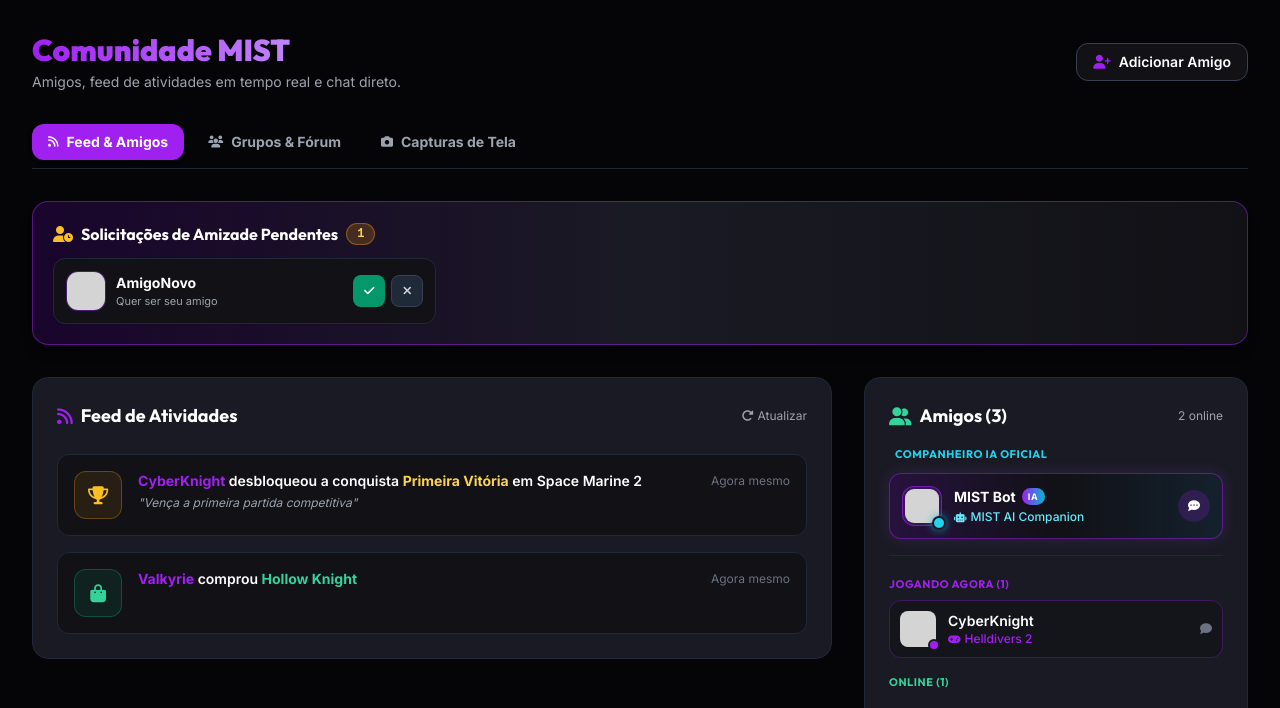
Test: Social Page Component (F-06 & F-08) › exibe a seção de solicitações de amizade pendentes e permite aceitar uma solicitação
Check: the element with test id "section-pending-requests" is shown, box left=32, top=201, right=1248, bottom=345
Check: the text "AmigoNovo" is shown, box left=116, top=274, right=196, bottom=291
Click the button with test id "btn-accept-request-99".
click(369, 291)  # box left=353, top=275, right=385, bottom=307
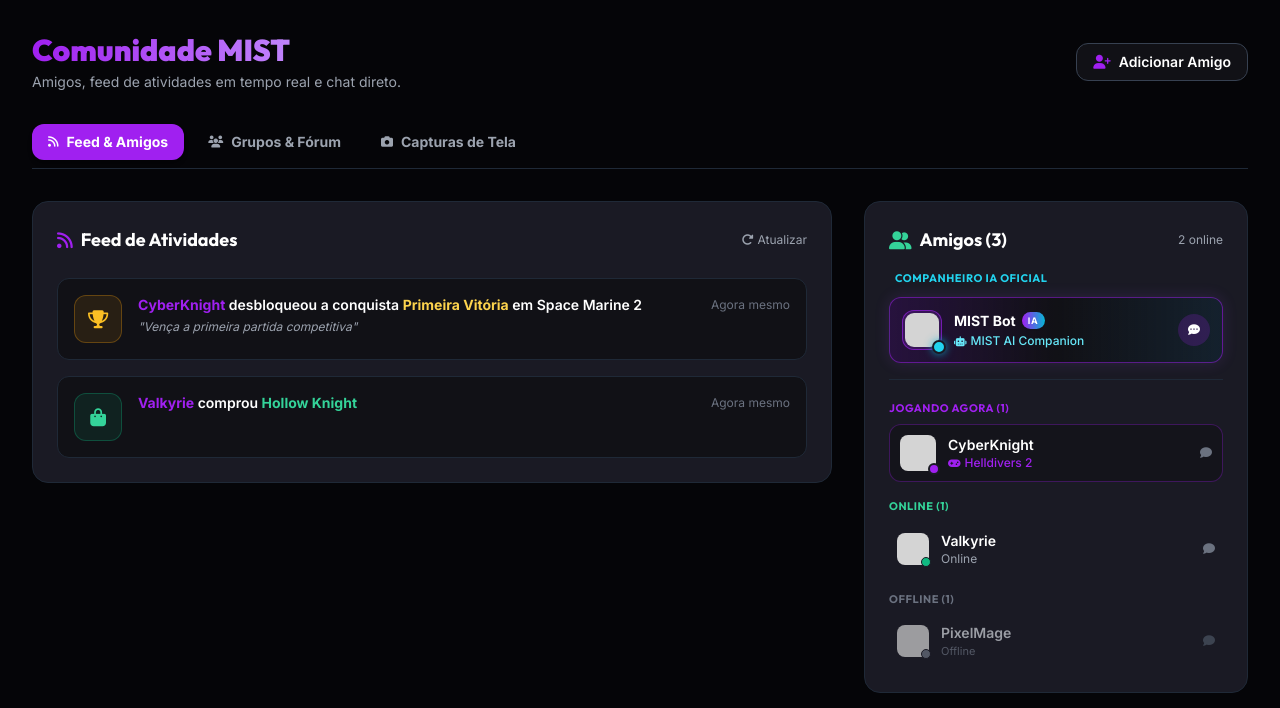
Check: the button with test id "btn-accept-request-99" is gone
